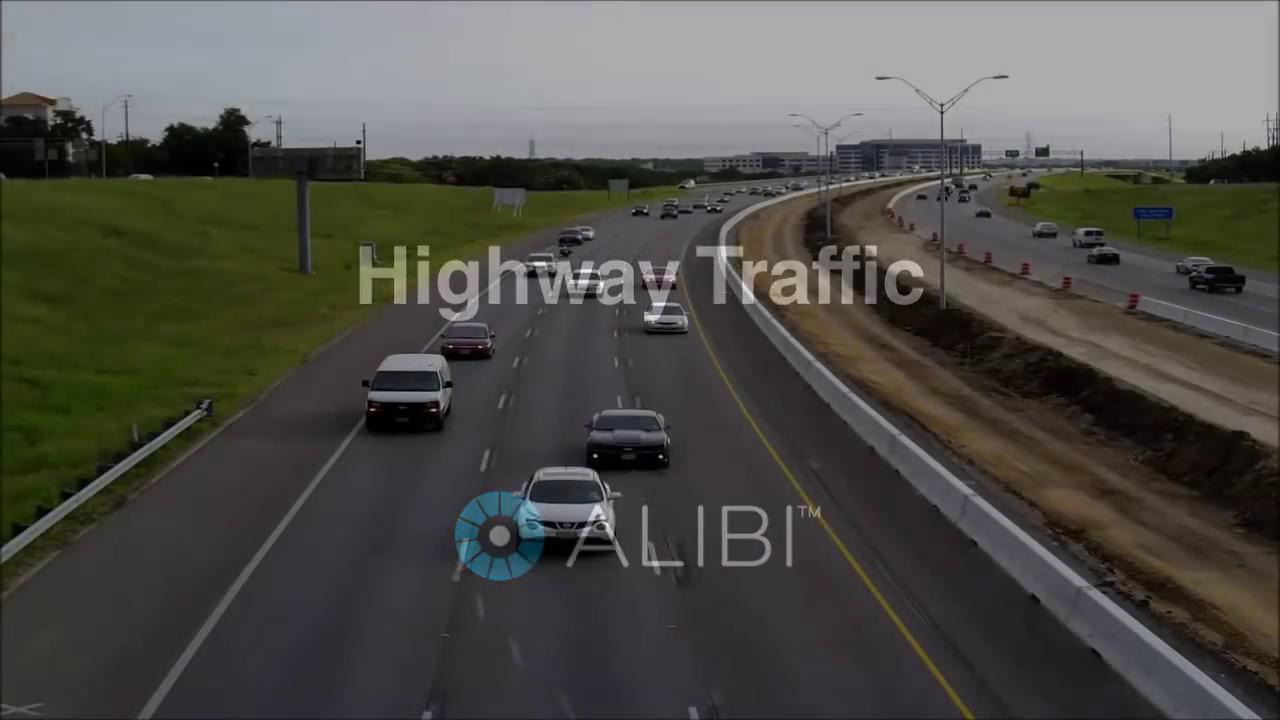car: (518, 468, 619, 546), (359, 352, 456, 433), (581, 408, 672, 470), (439, 323, 494, 358), (643, 302, 692, 335), (1184, 265, 1243, 292), (560, 225, 599, 245), (1174, 257, 1212, 275), (1072, 228, 1106, 247), (1087, 249, 1123, 266), (1030, 223, 1058, 238), (630, 208, 648, 218)
